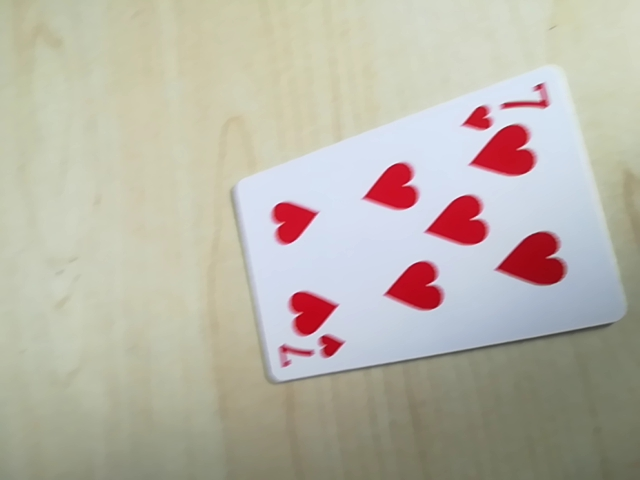hx 7: (458, 84, 555, 126), (270, 333, 350, 374)
